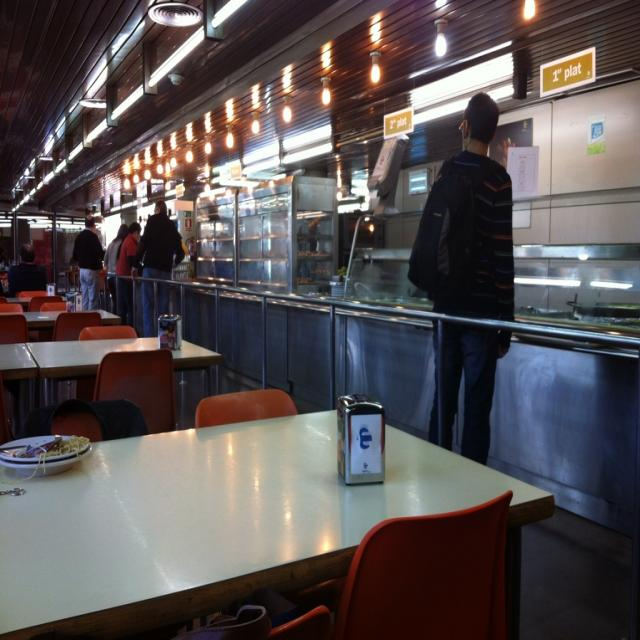chair: (297, 489, 515, 636), (93, 347, 178, 434), (195, 388, 298, 434), (48, 398, 138, 444), (53, 310, 103, 342), (80, 324, 140, 344), (0, 313, 31, 345)
desk: (0, 396, 558, 640), (0, 326, 220, 373)
person: (408, 92, 516, 466), (132, 197, 186, 338), (71, 208, 105, 312), (114, 220, 140, 327), (103, 223, 128, 322), (5, 243, 47, 297)
